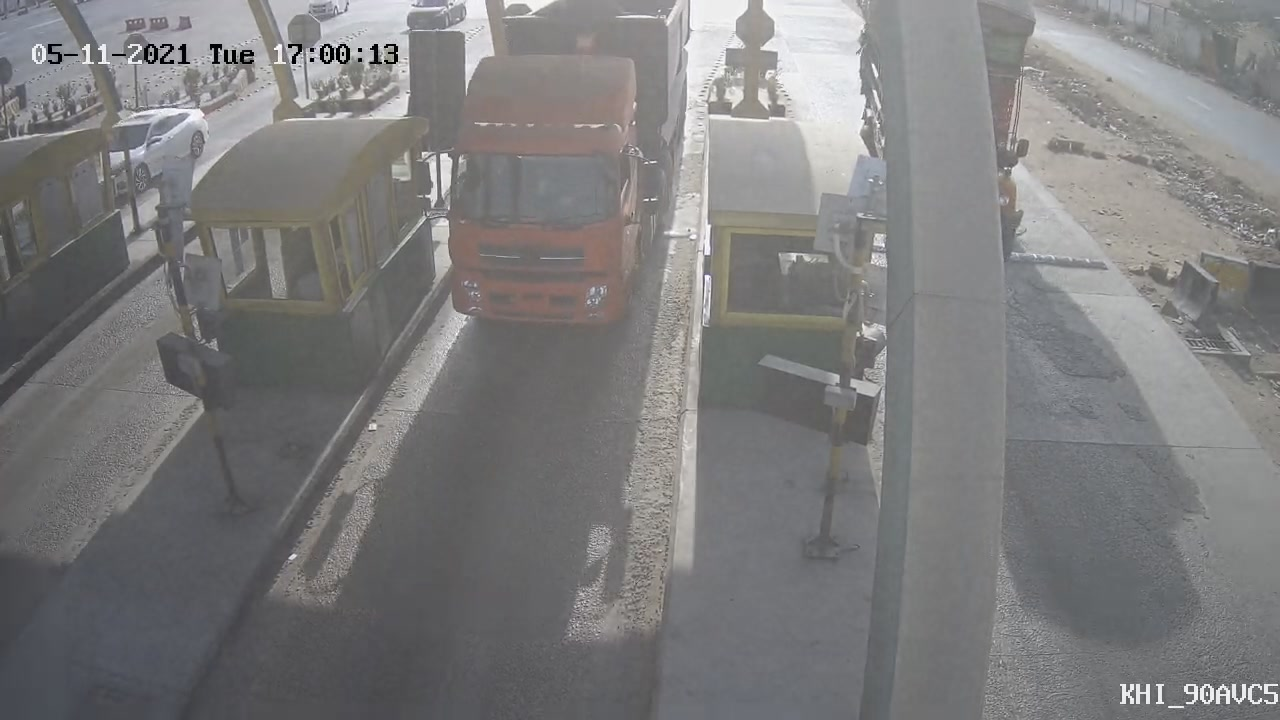F6: (394, 1, 711, 351)
